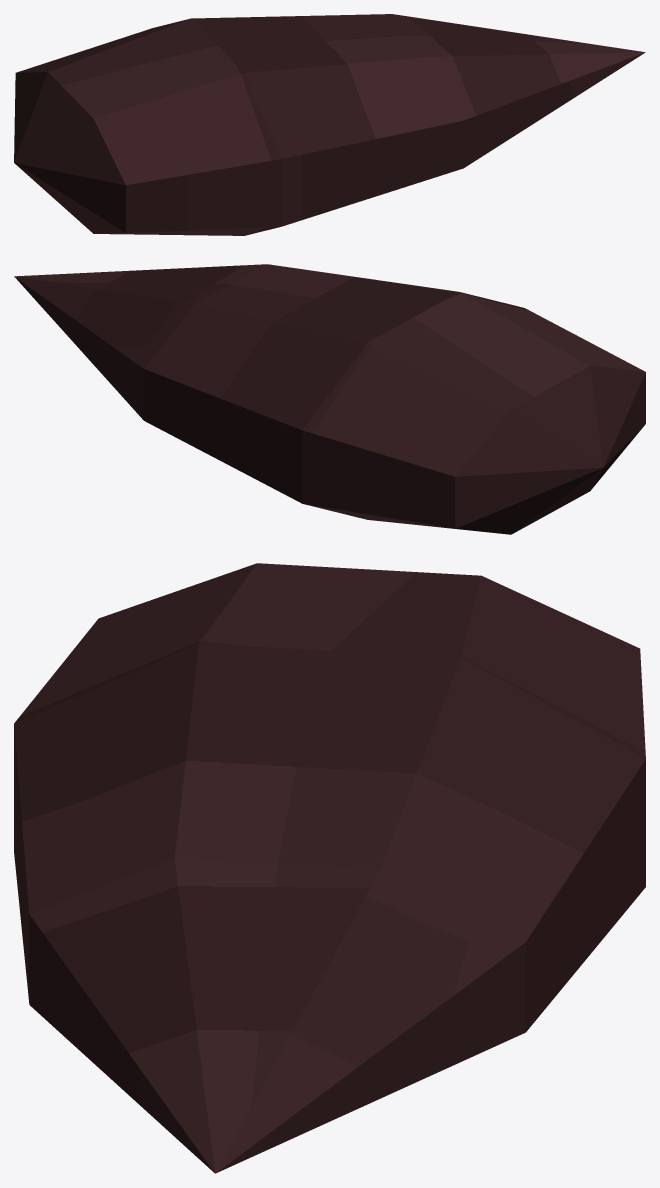
File: W.semechko.gltf
3 renders of one model, top to bottom at view 1: azimuth 30°, elevation 25°; view 2: azimuth 150°, elevation 25°; view 3: azimuth 270°, elevation 25°, orthographic. The views are drawn at different scales.
Parts seen in each view (by area): view 1: semechko; view 2: semechko; view 3: semechko.
Part boxes in pixels (x1,y1,x2,y2): semechko: (14,14,645,235); semechko: (14,264,645,534); semechko: (14,563,645,1173).
Size of the model in its own units: 0.3532 by 0.0938 by 0.1735.
1 material, 1 textured.
